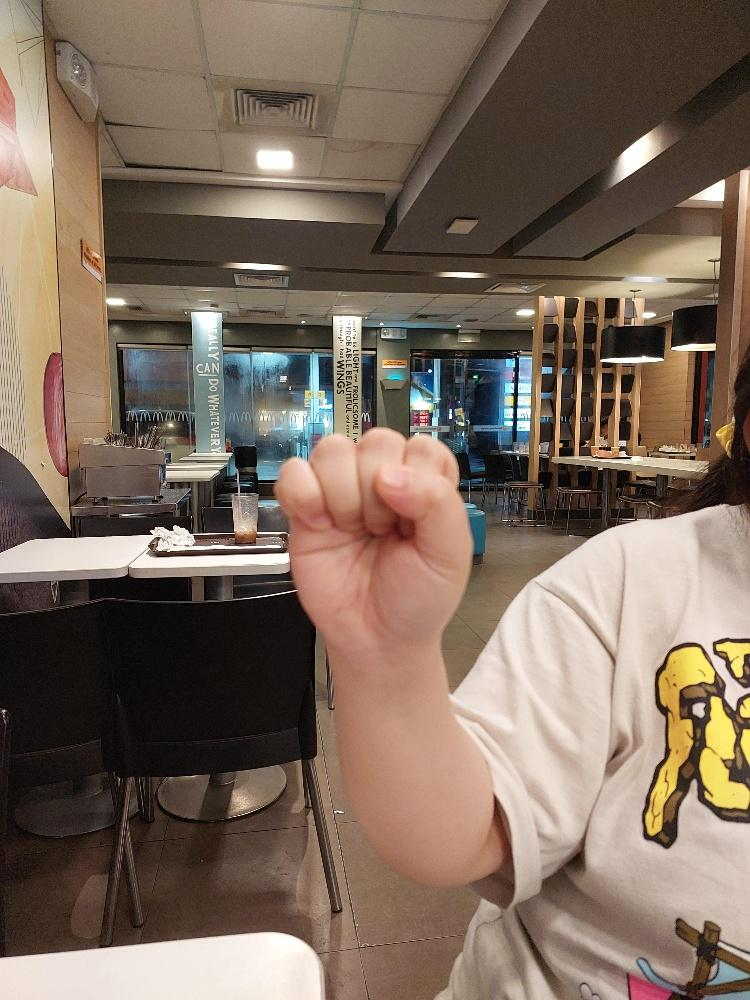s: (271, 425, 476, 652)
